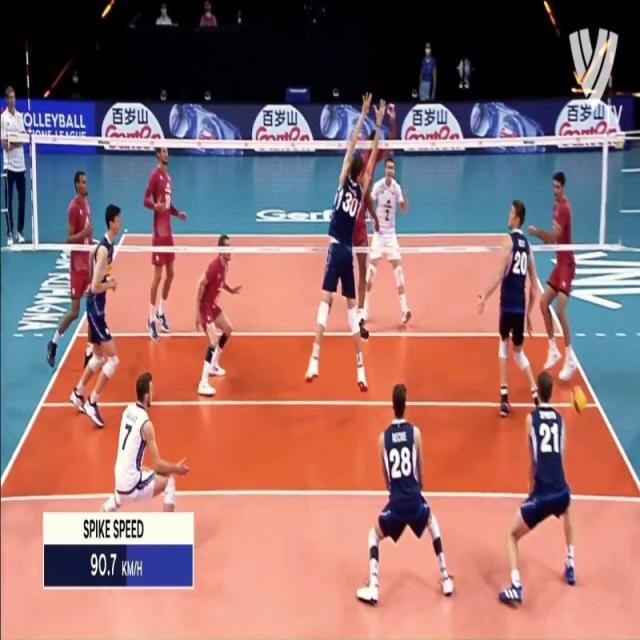volleyball: (570, 382, 588, 417)
